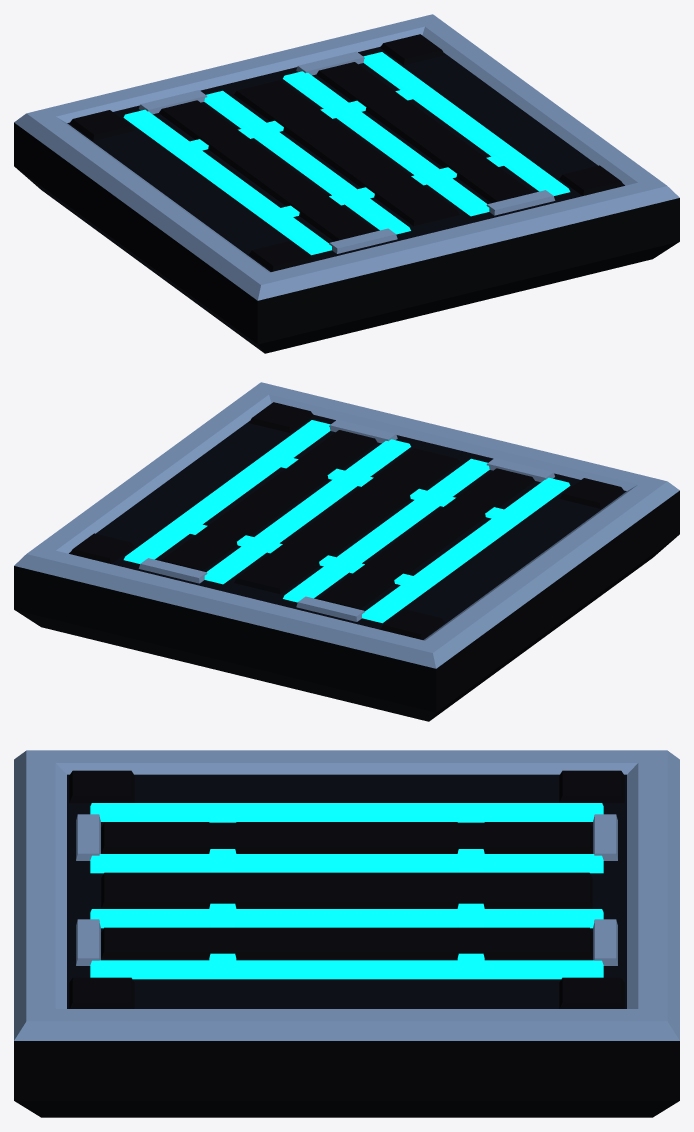
Rendered from SM_ArenaTile_03_IceCorridor.glb.
3 views of the same model, one above another, from view 1: azimuth 30°, elevation 25°; view 2: azimuth 150°, elevation 25°; view 3: azimuth 270°, elevation 25° (orthographic). The views are drawn at different scales.
Parts seen in each view (by area): view 1: Part_MAT_DarkNeutral, Part_MAT_LightTrim, Part_MAT_AltNeutral, Part_EMI_Ice; view 2: Part_MAT_DarkNeutral, Part_MAT_LightTrim, Part_MAT_AltNeutral, Part_EMI_Ice; view 3: Part_MAT_DarkNeutral, Part_MAT_LightTrim, Part_EMI_Ice, Part_MAT_AltNeutral.
Boxes of the visible parts, x1,y1,x2,y2 form: Part_MAT_DarkNeutral: (14, 34, 679, 353); Part_MAT_LightTrim: (14, 14, 679, 300); Part_MAT_AltNeutral: (67, 46, 624, 271); Part_EMI_Ice: (123, 52, 570, 255); Part_MAT_DarkNeutral: (14, 402, 679, 721); Part_MAT_LightTrim: (14, 382, 679, 668); Part_MAT_AltNeutral: (69, 414, 626, 639); Part_EMI_Ice: (123, 420, 570, 623); Part_MAT_DarkNeutral: (14, 770, 679, 1117); Part_MAT_LightTrim: (14, 750, 679, 1040); Part_EMI_Ice: (90, 803, 603, 979); Part_MAT_AltNeutral: (67, 774, 626, 1008).
Bounding box in the file's own units: 11.8 × 2 × 11.8.
Materials: 4 (4 with a texture image).
